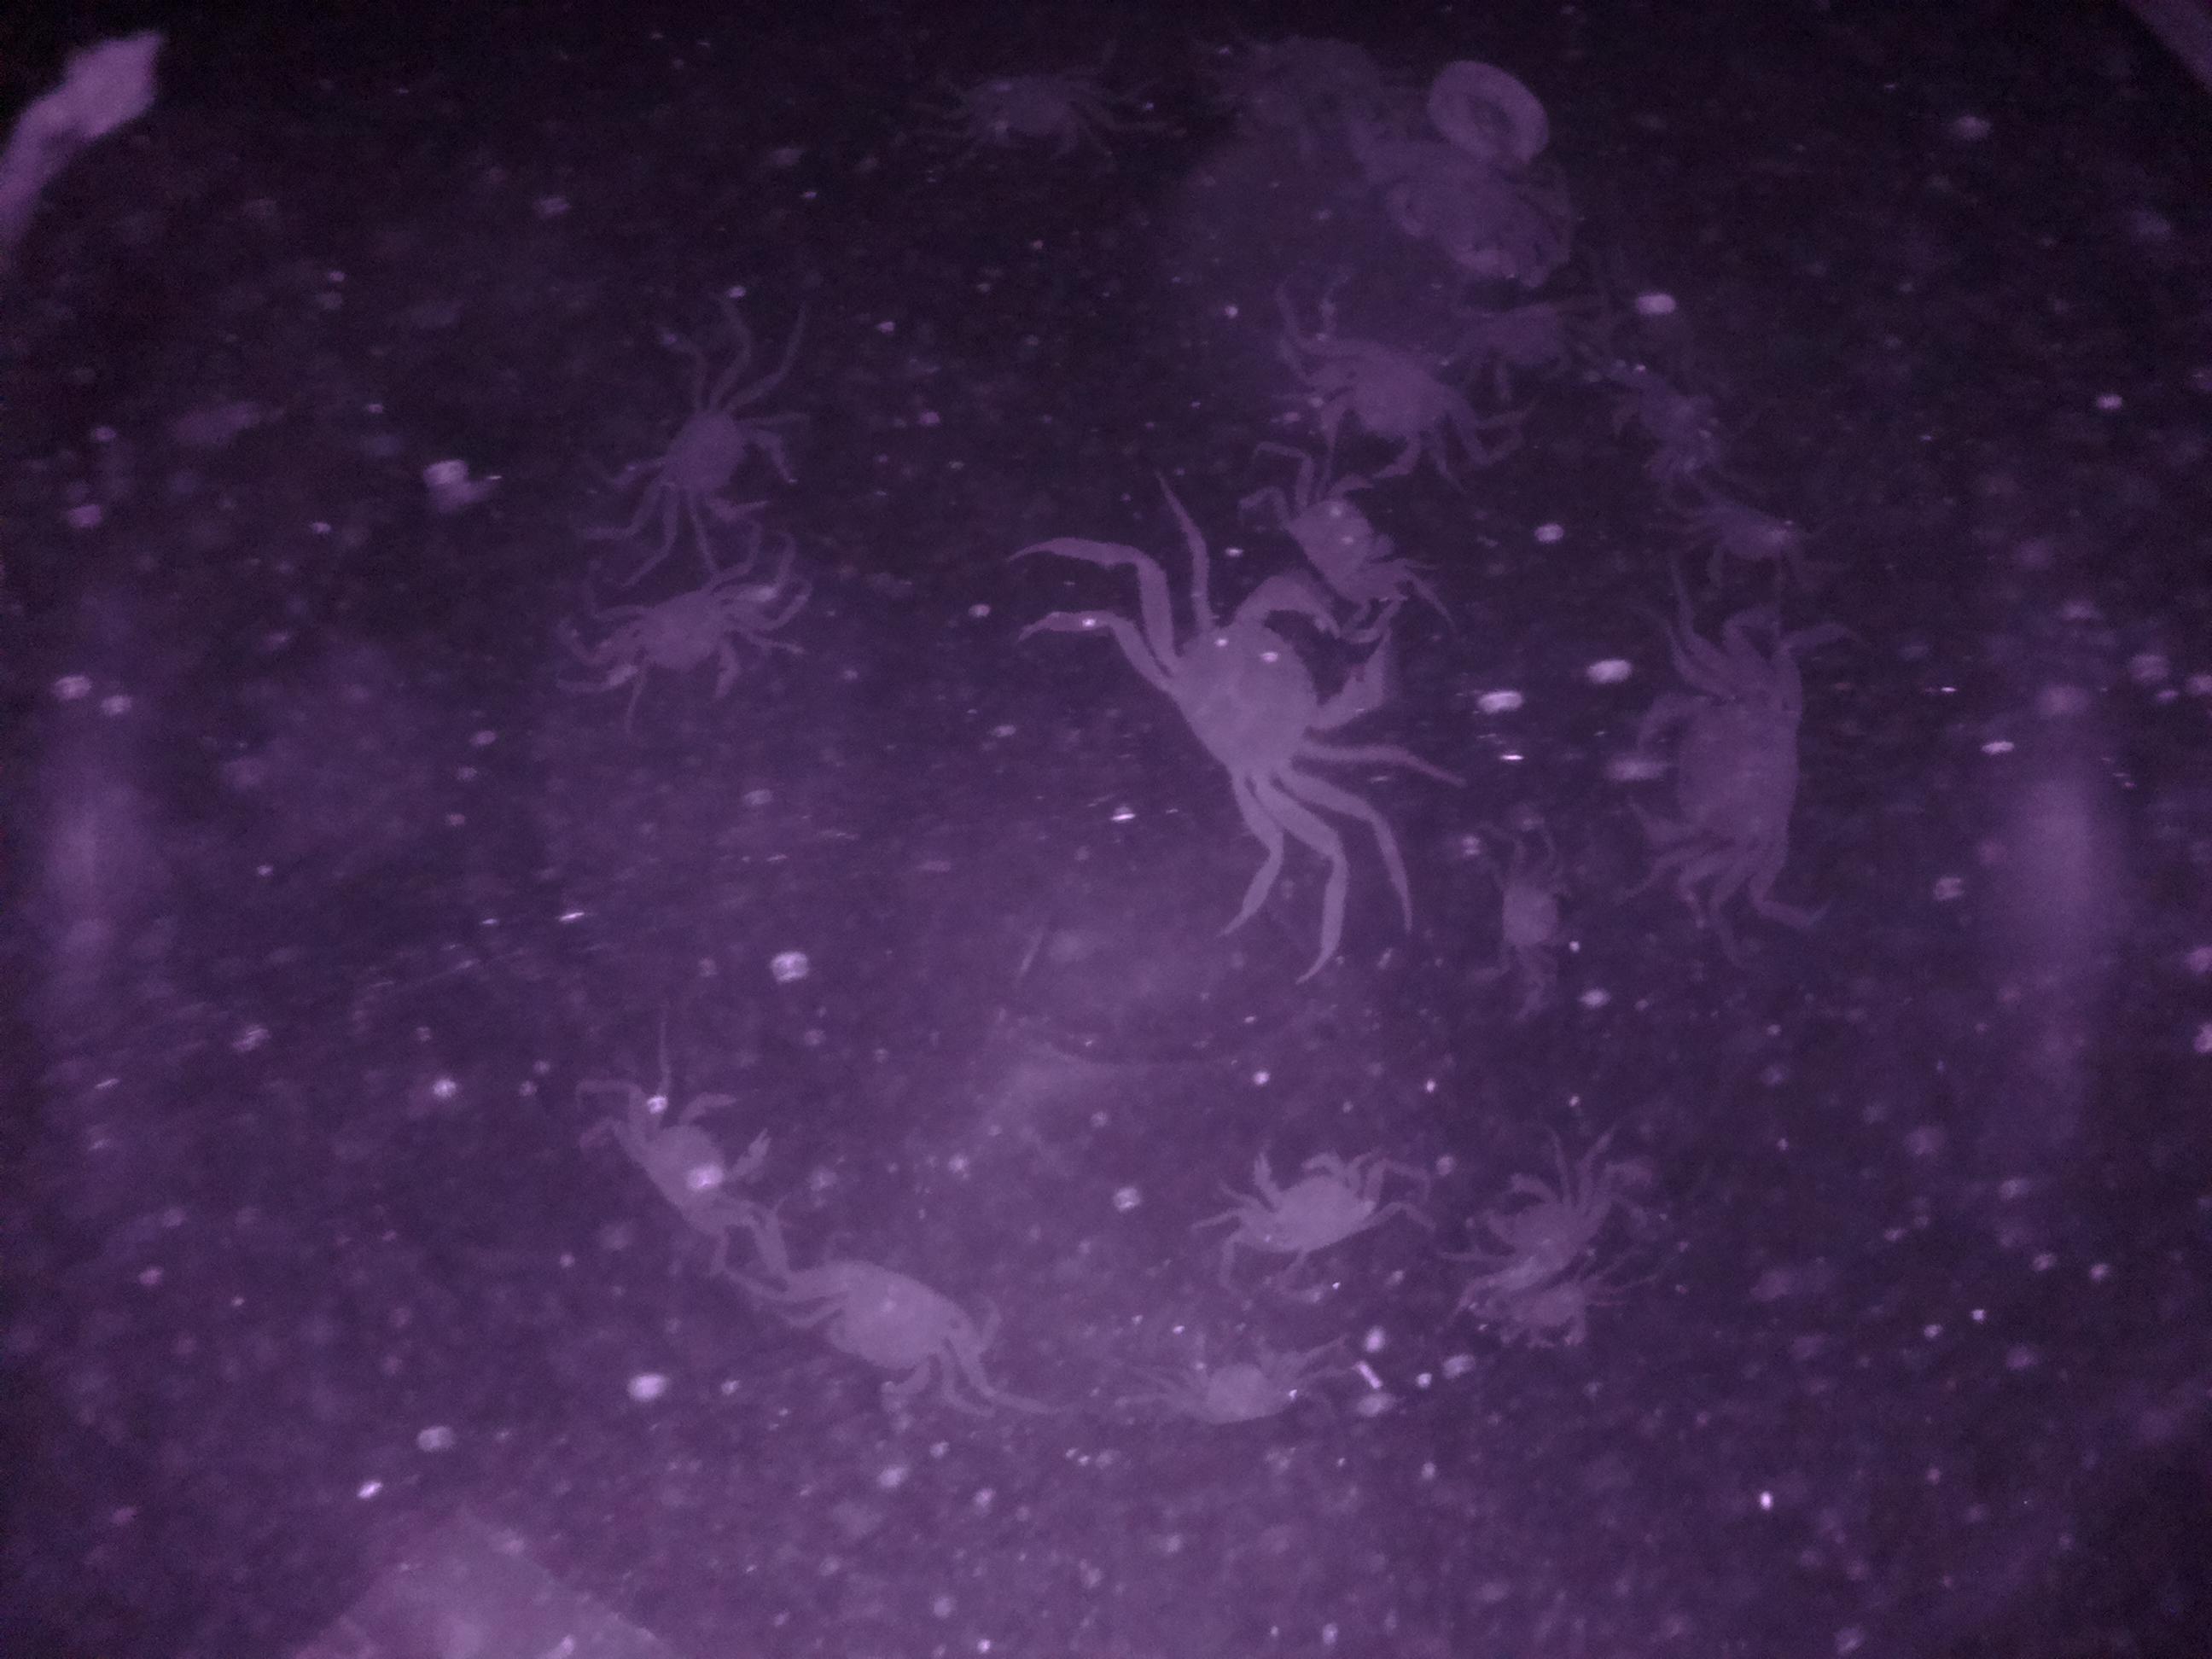Crab: (1127, 584, 1409, 831), (1597, 664, 1839, 890), (610, 1066, 794, 1274), (1287, 328, 1501, 493), (631, 380, 810, 552), (1219, 1126, 1413, 1265), (599, 572, 775, 721), (1468, 1154, 1622, 1307)
